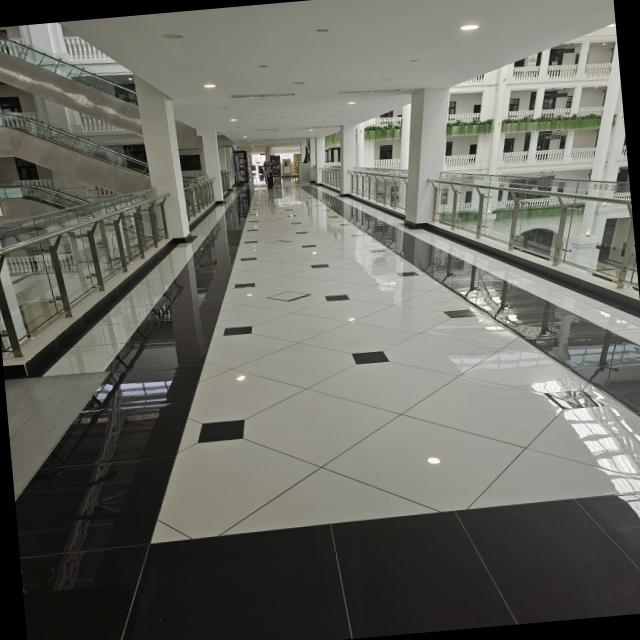footpath: (54, 223, 619, 640)
